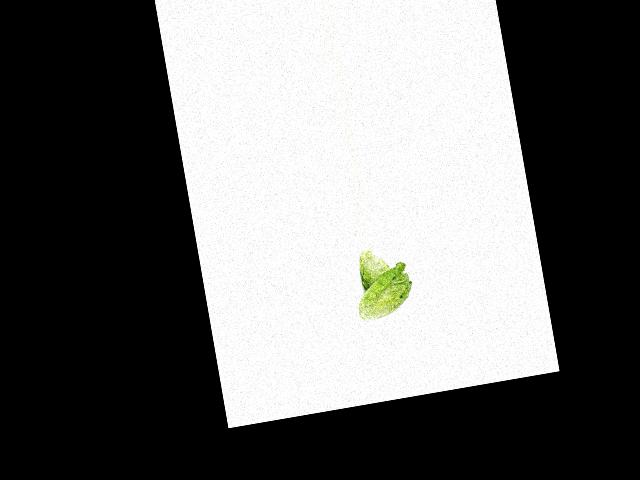lettuce: (353, 245, 394, 291)
